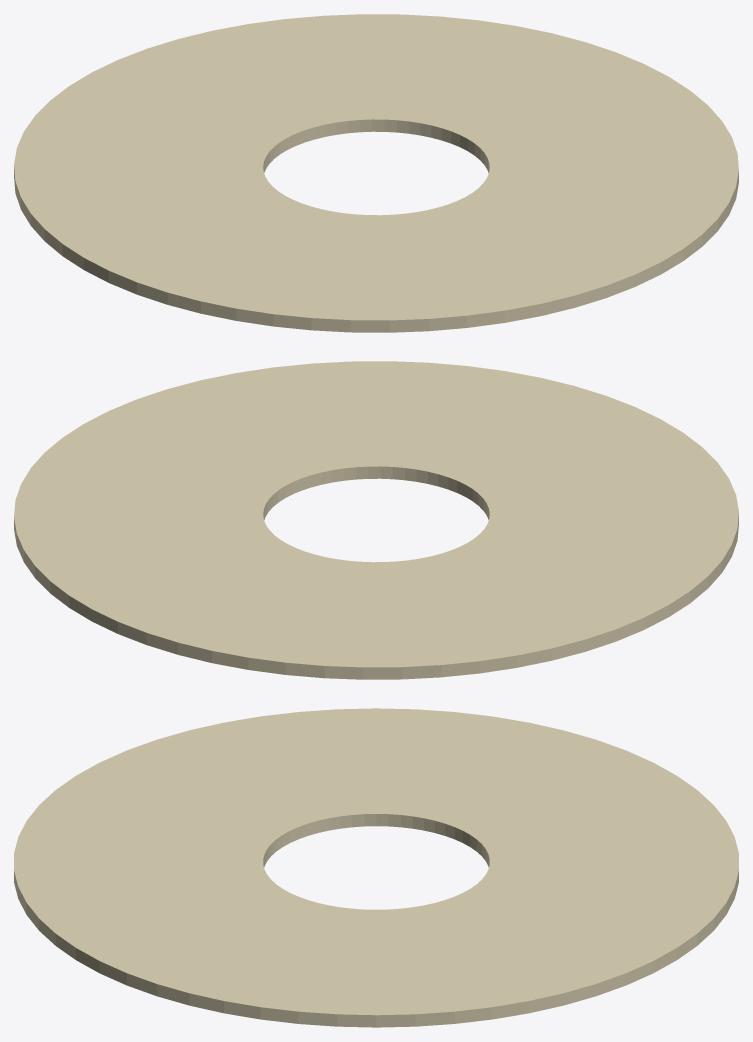
Rendered from regulator-inlet-screen.glb.
3 views of the same model, one above another, from view 1: azimuth 30°, elevation 25°; view 2: azimuth 150°, elevation 25°; view 3: azimuth 270°, elevation 25° (orthographic).
Visible parts, largest first — view 1: world; view 2: world; view 3: world.
Part boxes in pixels (box(x1,y1,x2,y2)): world: box(14, 14, 738, 332); world: box(14, 361, 738, 679); world: box(14, 708, 738, 1027).
Bounding box in the file's own units: 0.032 × 0.0006 × 0.032.
